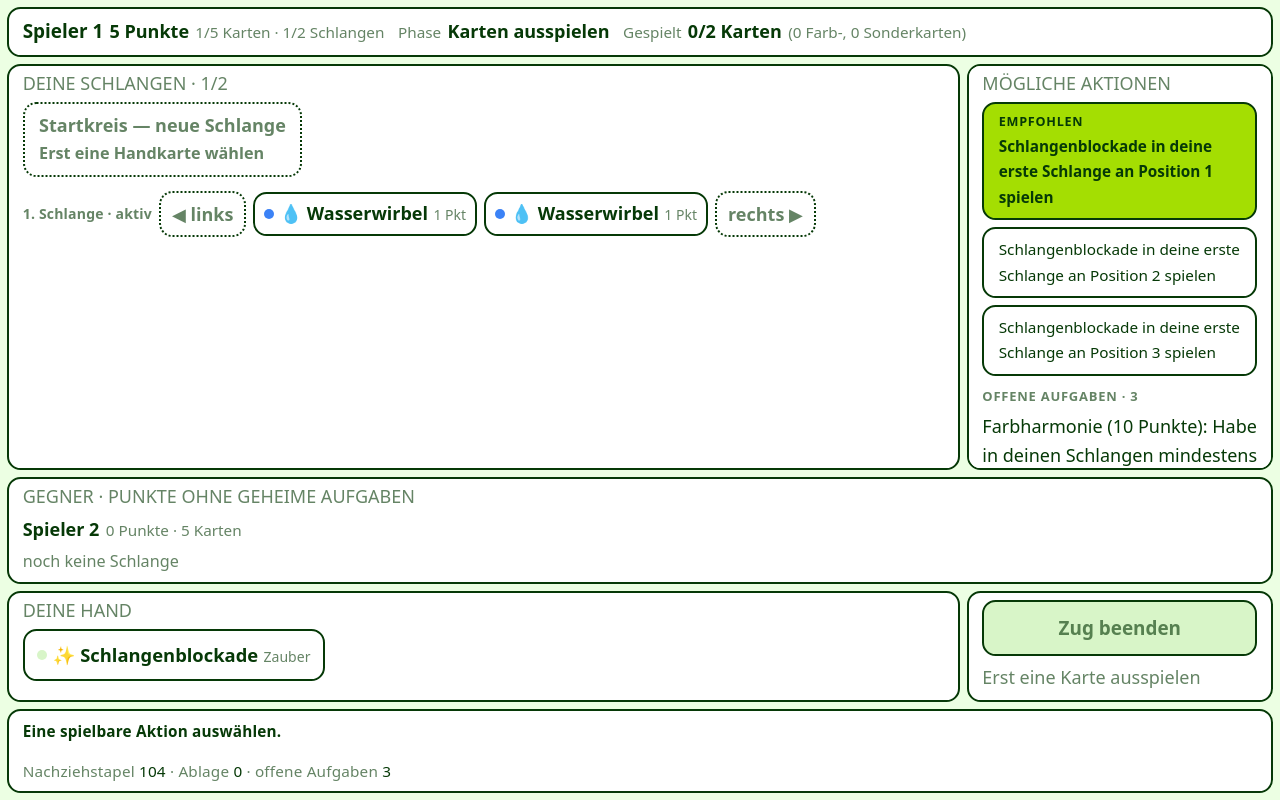
Test case: Sonderkarten über Brettziele › blockiert die eigene Schlange durch Klick auf einen Einfügeplatz
Click the button "✨ Schlangenblockade Zauber": [174, 655] box [23, 629, 325, 681]
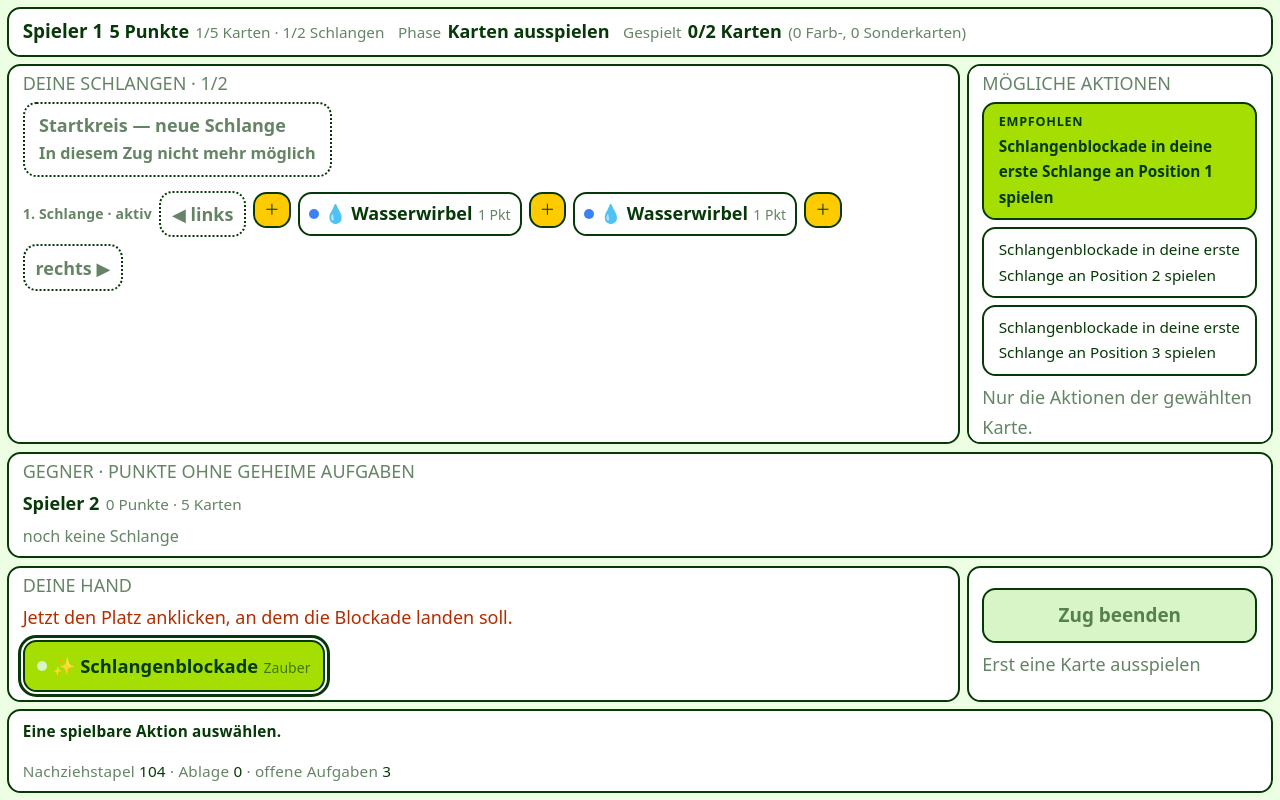
Now the number of buttons named "Hier landet die Blockade" is 3
Click the button named "Hier landet die Blockade": [547, 210] box [529, 192, 566, 228]
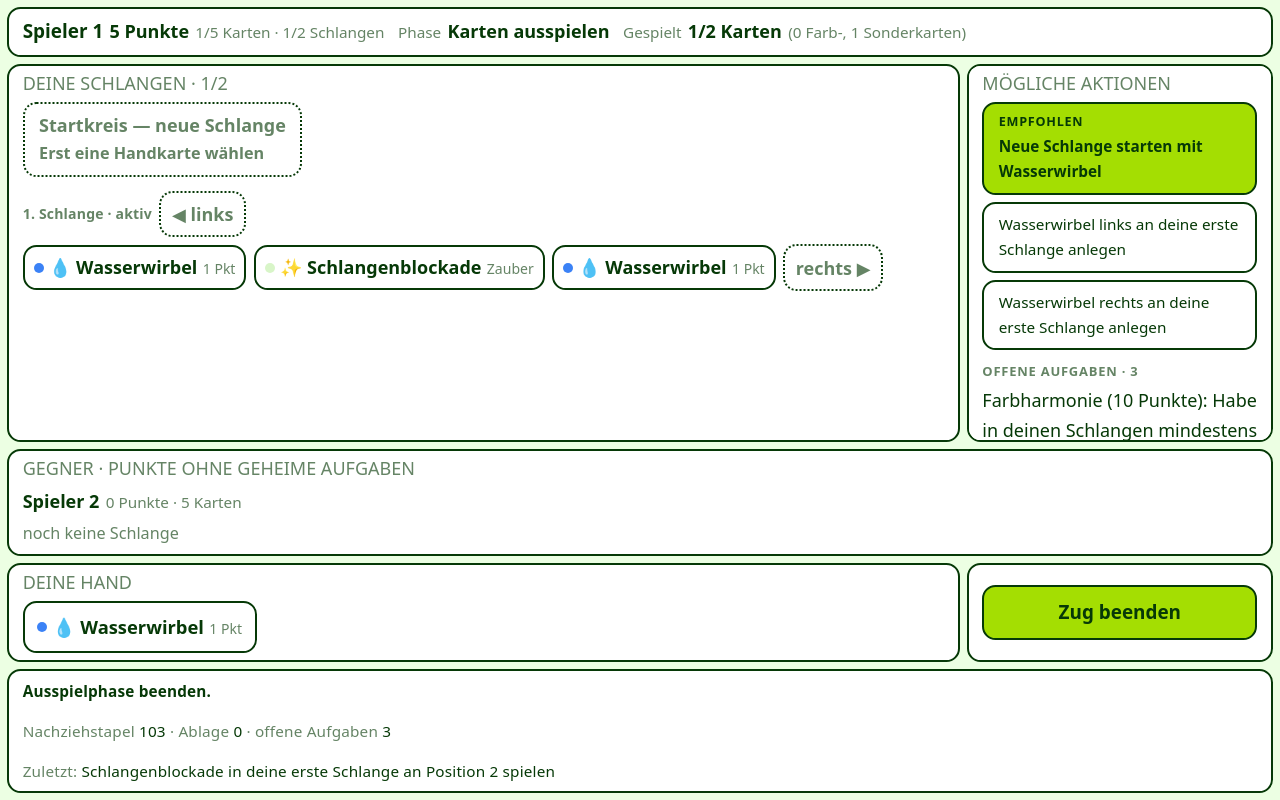
Now the element named "Spielverlauf" shows "Schlangenblockade", box [81, 760, 555, 780]
